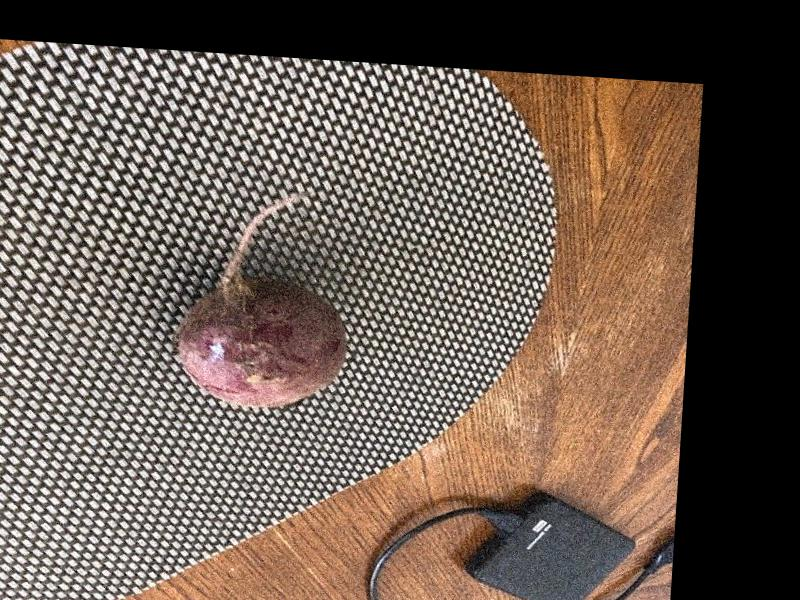Beet: (173, 184, 354, 411)
